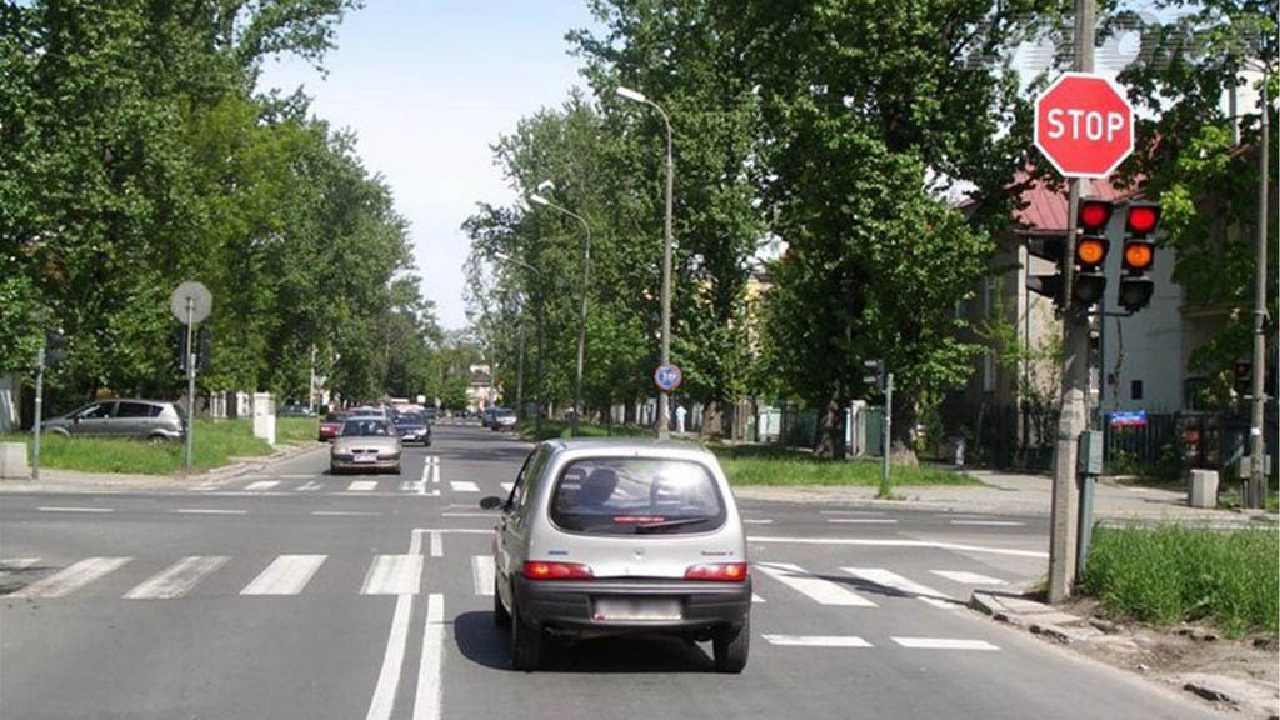B20: (1033, 71, 1136, 178)
